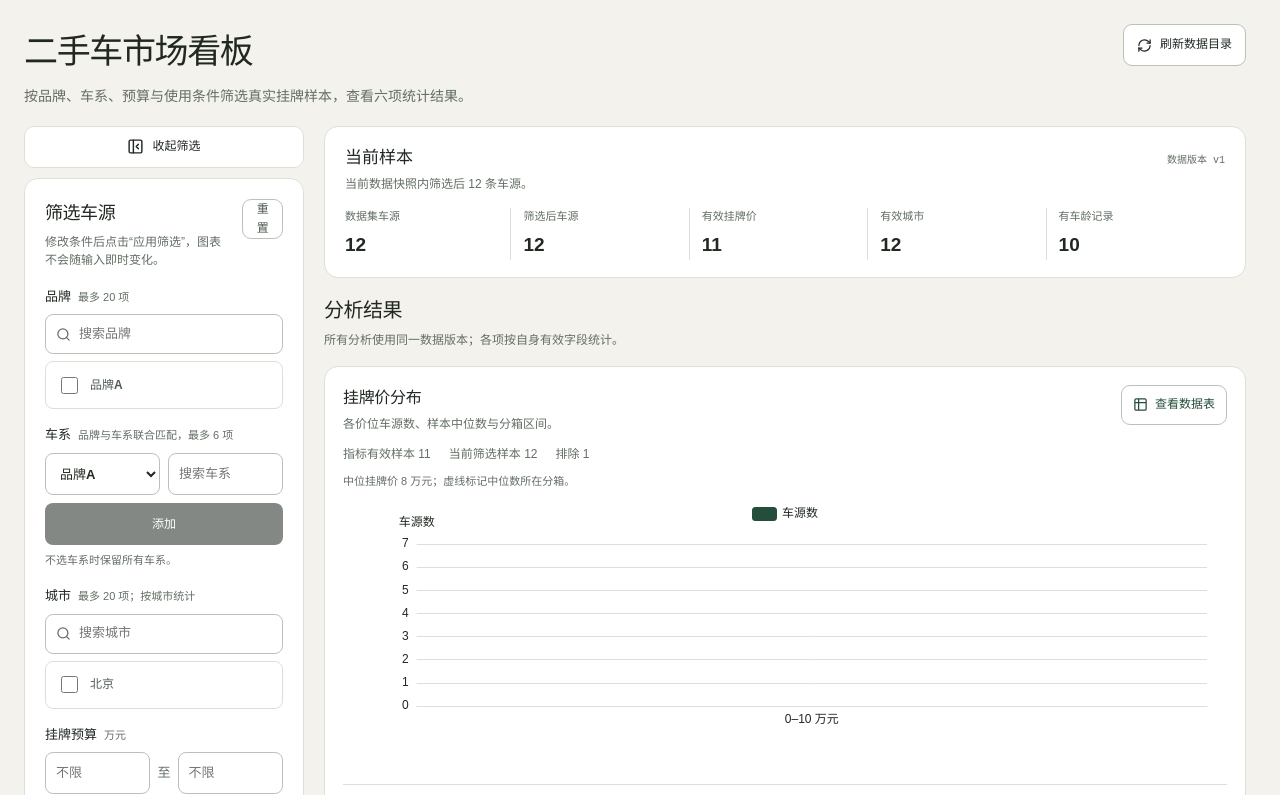
Test: DashboardPage › renders only analyses with drawable data and keeps the filter draft when collapsed
The width and height of the screenshot is (1280, 795).
Click the button with class "filter-toggle" at (164, 147), box x1=24 y1=126 x2=304 y2=168
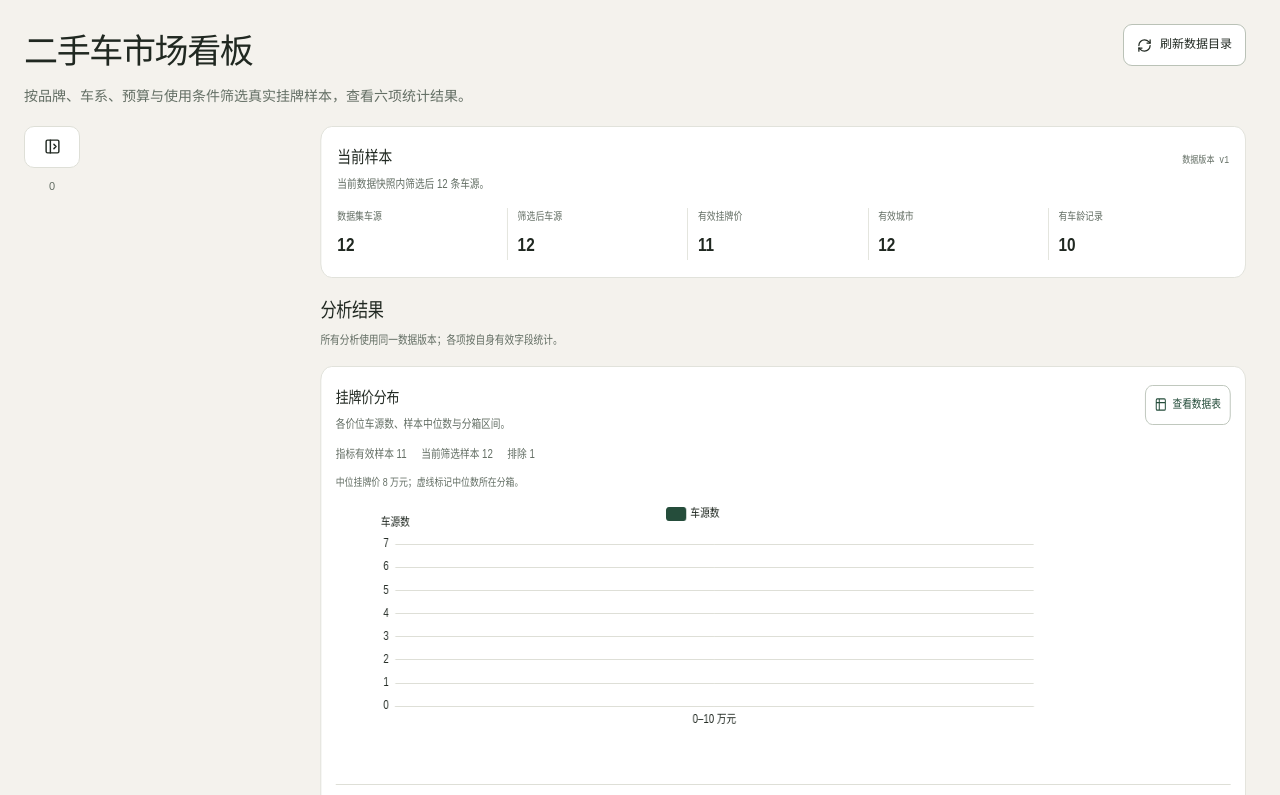
Check: the button with class "filter-toggle" is collapsed, box x1=24 y1=126 x2=80 y2=168
